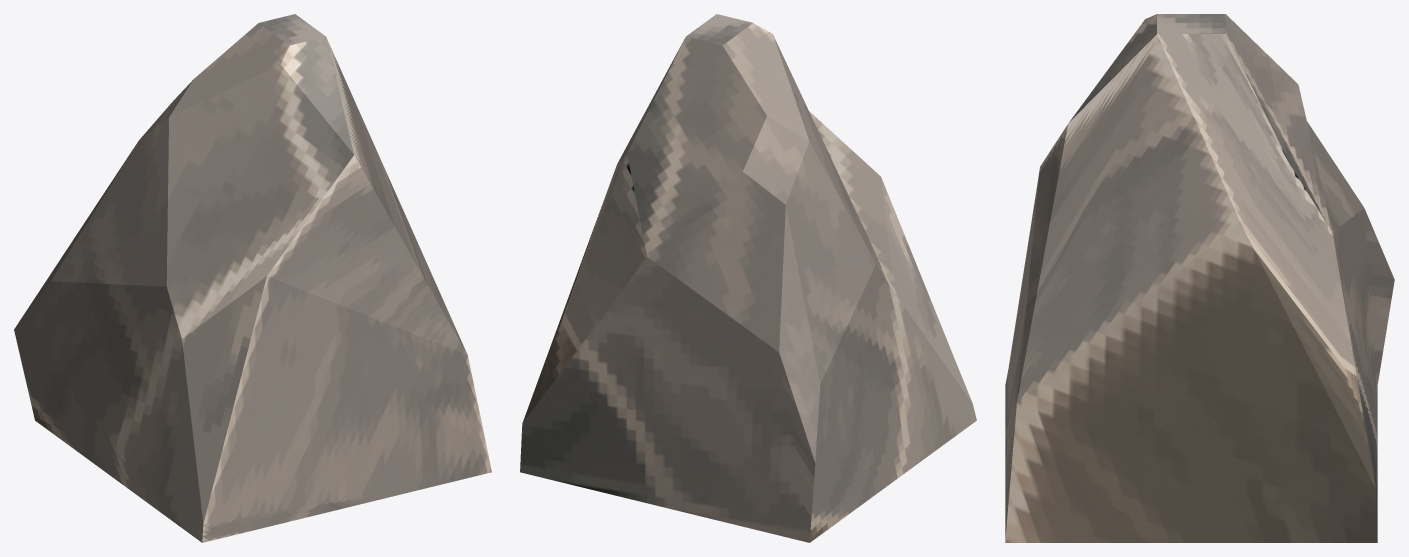
File: Forest_Rock_2.fbx
3 renders of one model, left to right at view 1: azimuth 30°, elevation 25°; view 2: azimuth 150°, elevation 25°; view 3: azimuth 270°, elevation 25°, orthographic. The views are drawn at different scales.
Parts seen in each view (by area): view 1: Cube.014; view 2: Cube.014; view 3: Cube.014.
Part boxes in pixels (x1=…): Cube.014: x1=14, y1=14, x2=491, y2=542; Cube.014: x1=520, y1=14, x2=976, y2=542; Cube.014: x1=1005, y1=14, x2=1394, y2=542.
Size of the model in its own units: 167 by 215 by 167.
